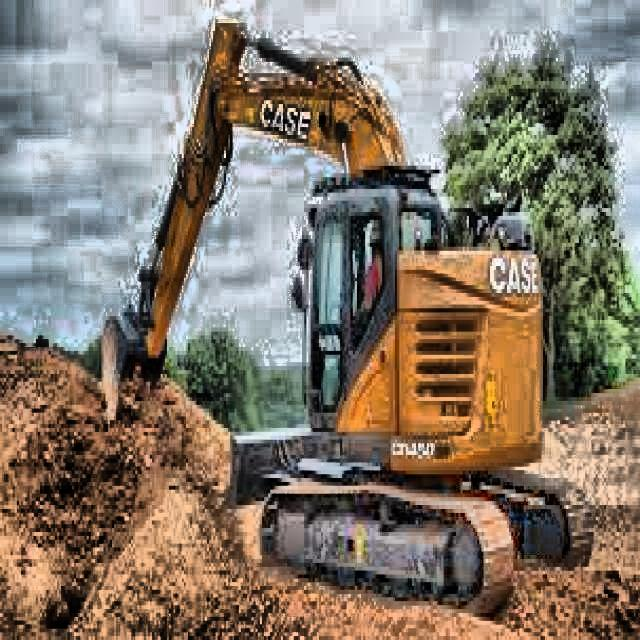bull_dozer/loader/grader: (99, 16, 596, 620)
person: (356, 224, 386, 309)
